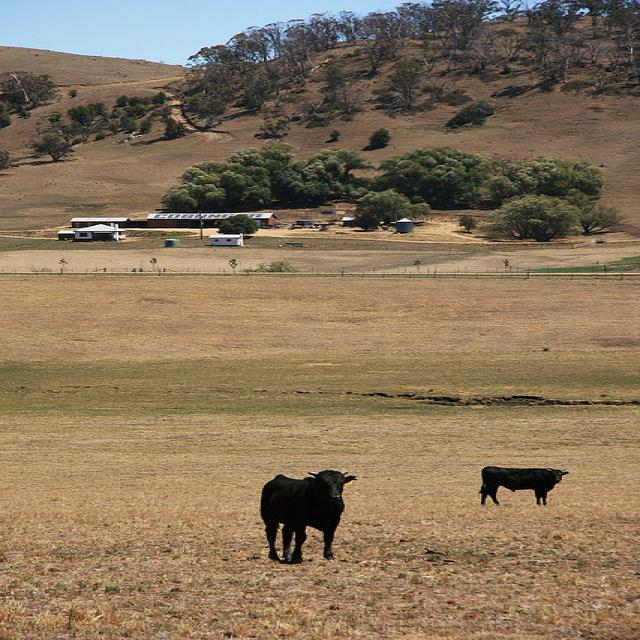cow: (253, 470, 366, 565), (475, 464, 568, 504)
